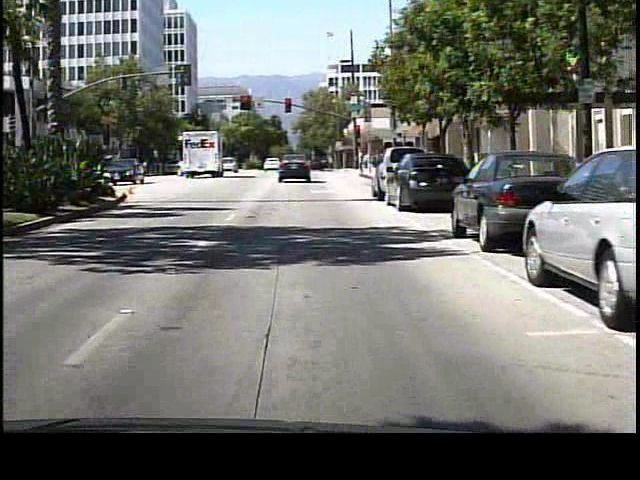person: (354, 146, 369, 177)
